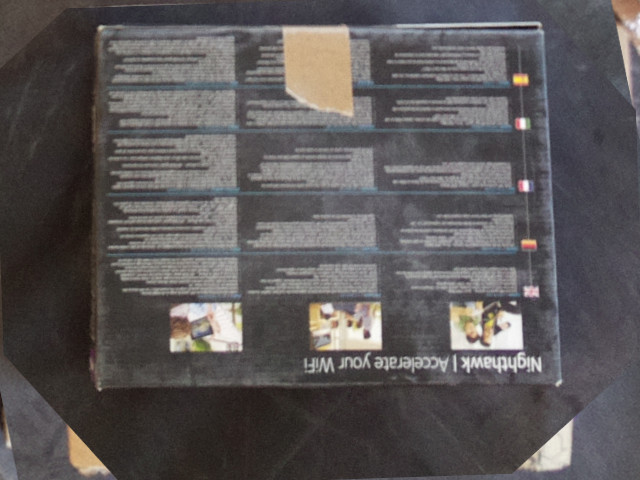cardboard: (88, 21, 555, 384)
